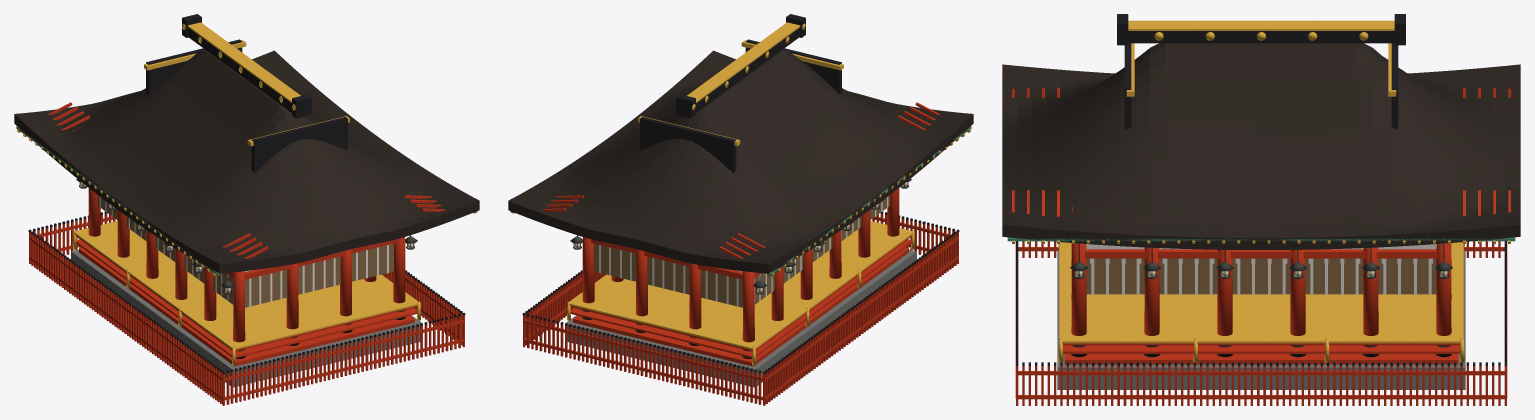
File: Asset_06_Gehaiden_Worship_Hall.fbx
3 views of the same model, side by side, from view 1: azimuth 30°, elevation 25°; view 2: azimuth 150°, elevation 25°; view 3: azimuth 270°, elevation 25° (orthographic). The views are drawn at different scales.
Parts seen in each view (by area): view 1: Z02_Gehaiden_Roof, Z02_Gehaiden_Verandah_Gold, Z02_Gehaiden_Podium, Z02_Gehaiden_Floor, Z02_Gehaiden_Verandah_MidRail, Z02_Gehaiden_Roof_Gable_Pediment_-1, Z02_Gehaiden_Roof_Ridge_Gold_Cap, Z02_Sudare_X_1_-5.0, Z02_Sudare_X_0_-5.0, Z02_Gehaiden_Roof_Ridge_Beam, Z02_Sudare_X_2_-5.0, Z02_Tamagaki_RailY_Low_-6.7 (+16 smaller); view 2: Z02_Gehaiden_Roof, Z02_Gehaiden_Verandah_Gold, Z02_Gehaiden_Podium, Z02_Gehaiden_Floor, Z02_Gehaiden_Verandah_MidRail, Z02_Gehaiden_Roof_Gable_Pediment_1, Z02_Gehaiden_Roof_Ridge_Gold_Cap, Z02_Sudare_X_1_5.0, Z02_Sudare_X_0_5.0, Z02_Gehaiden_Roof_Ridge_Beam, Z02_Sudare_X_2_5.0, Z02_Tamagaki_RailY_Low_6.7 (+15 smaller); view 3: Z02_Gehaiden_Roof, Z02_Gehaiden_Verandah_Gold, Z02_Gehaiden_Podium, Z02_Gehaiden_Floor, Z02_Gehaiden_Verandah_MidRail, Z02_Gehaiden_Roof_Ridge_Beam, Z02_Nageshi_Beam_Mid, Z02_Gehaiden_Roof_Ridge_Gold_Cap, Z02_Tamagaki_RailX_17.3, Z02_Tamagaki_RailX_Low_17.3, Z02_Sudare_Y_1_15.7, Z02_Sudare_Y_2_15.7 (+14 smaller).
Boxes of the visible parts, x1,y1,x2,y2 form: Z02_Gehaiden_Roof: (14,50,479,273); Z02_Gehaiden_Verandah_Gold: (74,221,420,349); Z02_Gehaiden_Podium: (71,249,421,387); Z02_Gehaiden_Floor: (79,248,414,366); Z02_Gehaiden_Verandah_MidRail: (76,239,417,357); Z02_Gehaiden_Roof_Gable_Pediment_-1: (251,117,347,173); Z02_Gehaiden_Roof_Ridge_Gold_Cap: (187,22,300,102); Z02_Sudare_X_1_-5.0: (298,256,340,294); Z02_Sudare_X_0_-5.0: (245,269,287,307); Z02_Gehaiden_Roof_Ridge_Beam: (188,27,291,112); Z02_Sudare_X_2_-5.0: (351,243,393,281); Z02_Tamagaki_RailY_Low_-6.7: (224,339,464,400); Z02_Gehaiden_Roof: (508,50,973,273); Z02_Gehaiden_Verandah_Gold: (567,221,913,349); Z02_Gehaiden_Podium: (566,249,916,387); Z02_Gehaiden_Floor: (573,248,908,366); Z02_Gehaiden_Verandah_MidRail: (570,239,911,357); Z02_Gehaiden_Roof_Gable_Pediment_1: (640,117,736,173); Z02_Gehaiden_Roof_Ridge_Gold_Cap: (687,22,800,102); Z02_Sudare_X_1_5.0: (647,256,689,294); Z02_Sudare_X_0_5.0: (700,269,742,307); Z02_Gehaiden_Roof_Ridge_Beam: (696,27,799,112); Z02_Sudare_X_2_5.0: (594,243,636,281); Z02_Tamagaki_RailY_Low_6.7: (523,339,763,400); Z02_Gehaiden_Roof: (1002,43,1520,249); Z02_Gehaiden_Verandah_Gold: (1059,242,1463,343); Z02_Gehaiden_Podium: (1057,250,1465,389); Z02_Gehaiden_Floor: (1064,354,1458,364); Z02_Gehaiden_Verandah_MidRail: (1063,345,1459,353); Z02_Gehaiden_Roof_Ridge_Beam: (1128,31,1394,43); Z02_Nageshi_Beam_Mid: (1085,249,1437,258); Z02_Gehaiden_Roof_Ridge_Gold_Cap: (1128,20,1394,30); Z02_Tamagaki_RailX_17.3: (1017,371,1505,375); Z02_Tamagaki_RailX_Low_17.3: (1017,395,1505,399); Z02_Sudare_Y_1_15.7: (1159,258,1217,294); Z02_Sudare_Y_2_15.7: (1232,258,1290,294).
Bounding box in the file's own units: 1050 × 946 × 1420.
10 materials, 1 textured.
